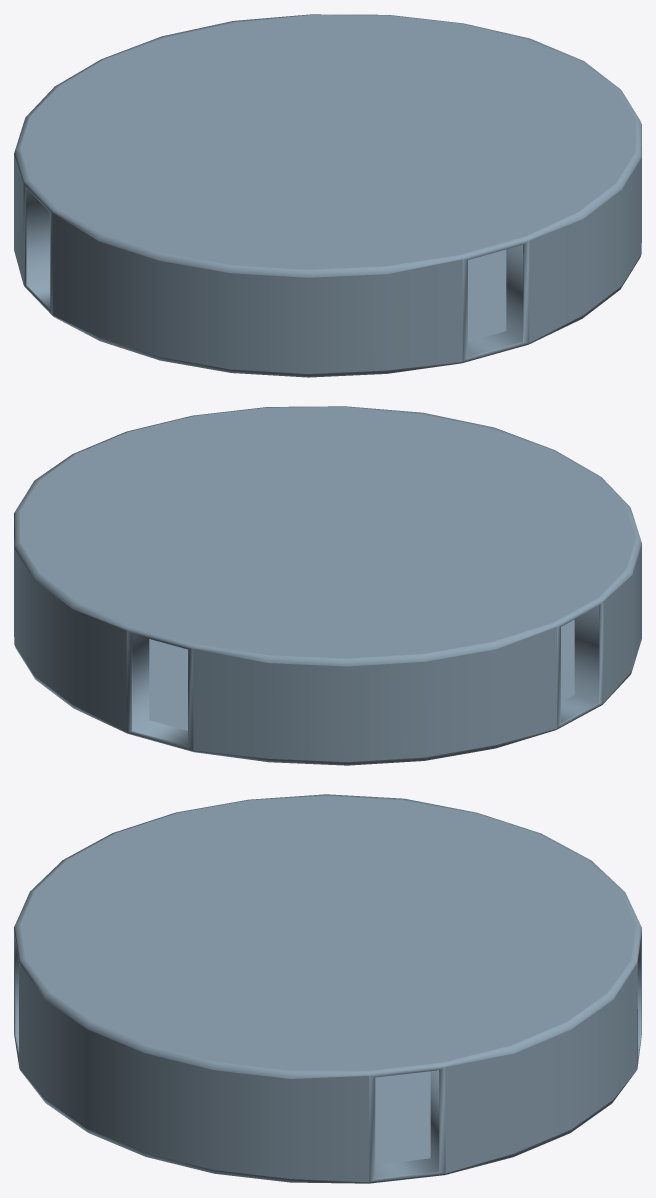
The picture shows the model from 3 angles, top to bottom: view 1: azimuth 30°, elevation 25°; view 2: azimuth 150°, elevation 25°; view 3: azimuth 270°, elevation 25°; orthographic projection. The views are drawn at different scales.
Parts seen in each view (by area): view 1: Cylinder_12; view 2: Cylinder_12; view 3: Cylinder_12.
Boxes of the visible parts, bbox=[...] form: Cylinder_12: bbox=[14, 14, 641, 377]; Cylinder_12: bbox=[14, 406, 641, 765]; Cylinder_12: bbox=[14, 794, 641, 1183].
Size of the model in its own units: 79.98 by 14.8 by 75.77.
